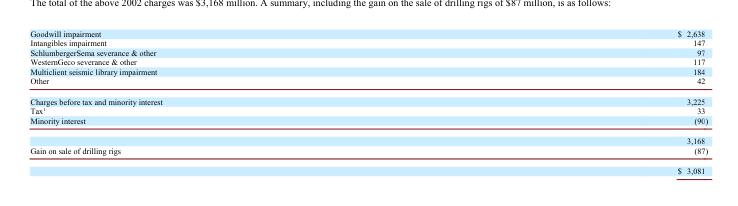table: (29, 28, 707, 174)
table column: (29, 28, 419, 174), (419, 28, 707, 174)
table row: (29, 75, 707, 90), (29, 90, 707, 105), (29, 115, 707, 130), (29, 130, 707, 145), (29, 145, 707, 160), (29, 160, 707, 174), (29, 37, 707, 47), (29, 56, 707, 66), (29, 105, 707, 115), (29, 28, 707, 37), (29, 47, 707, 56), (29, 66, 707, 75)
